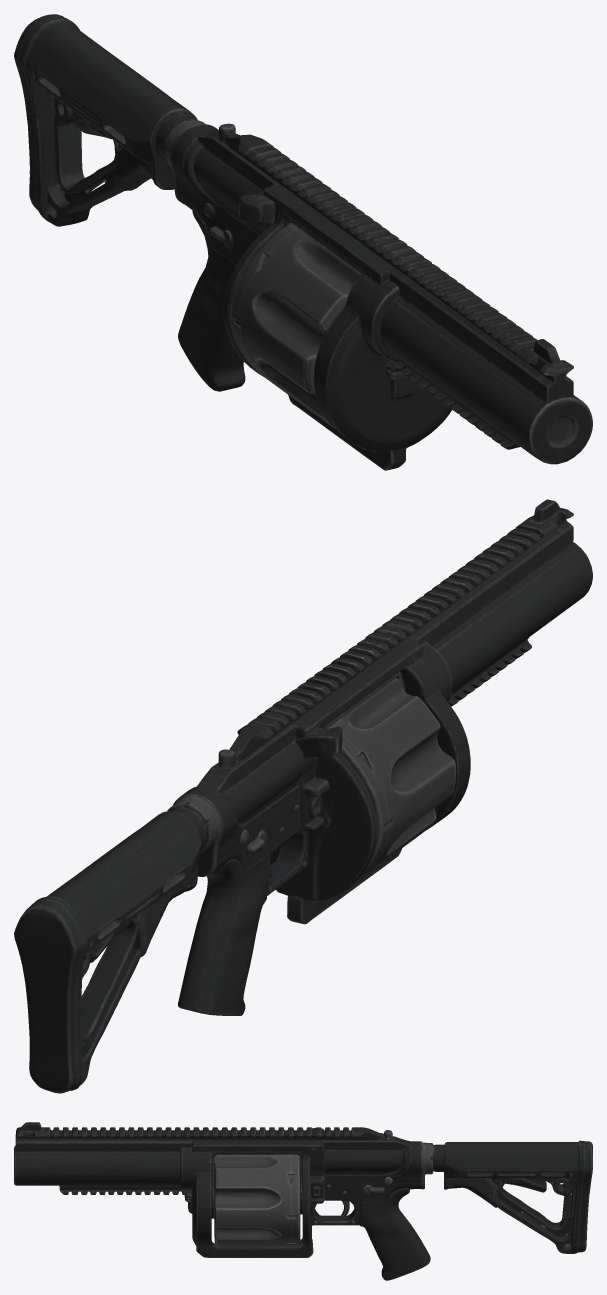
File: revolving_launcher.high.glb
3 views of the same model, one above another, from view 1: azimuth 30°, elevation 25°; view 2: azimuth 150°, elevation 25°; view 3: azimuth 270°, elevation 25° (orthographic). The views are drawn at different scales.
Visible parts, largest first — view 1: model; view 2: model; view 3: model.
Part boxes in pixels (box(x1,y1,x2,y2)): model: box(14, 14, 592, 470); model: box(14, 499, 592, 1093); model: box(14, 1122, 592, 1280).
Bounding box in the file's own units: 0.1448 × 0.2505 × 0.85.
Materials: 1 (1 with a texture image).
